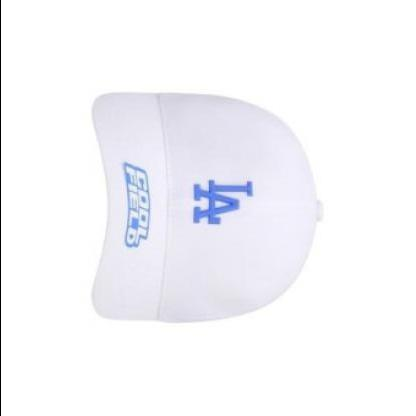cap: (77, 75, 337, 338)
